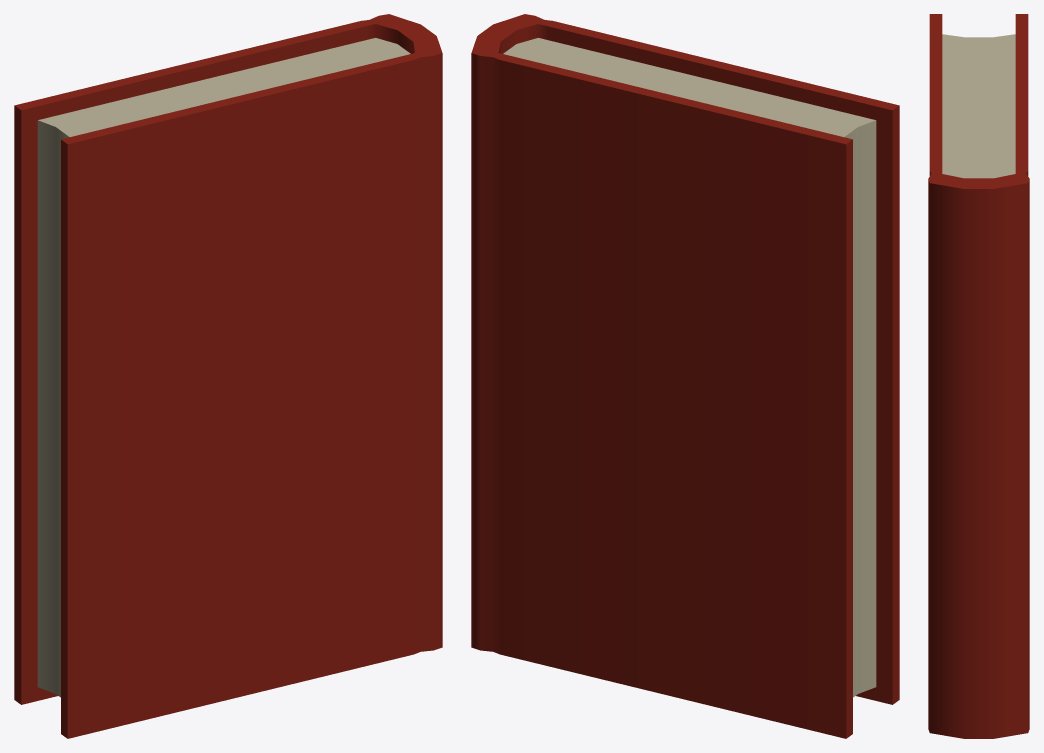
File: Book_Small_DeepRed.glb
3 views of the same model, side by side, from view 1: azimuth 30°, elevation 25°; view 2: azimuth 150°, elevation 25°; view 3: azimuth 270°, elevation 25° (orthographic). The views are drawn at different scales.
Parts seen in each view (by area): view 1: Book_Small_DeepRed; view 2: Book_Small_DeepRed; view 3: Book_Small_DeepRed.
Part boxes in pixels (box(x1,y1,x2,y2)): Book_Small_DeepRed: box(14, 14, 442, 738); Book_Small_DeepRed: box(471, 14, 899, 738); Book_Small_DeepRed: box(928, 14, 1029, 738).
Bounding box in the file's own units: 0.2569 × 0.3764 × 0.063.
Materials: 2 (2 with a texture image).
